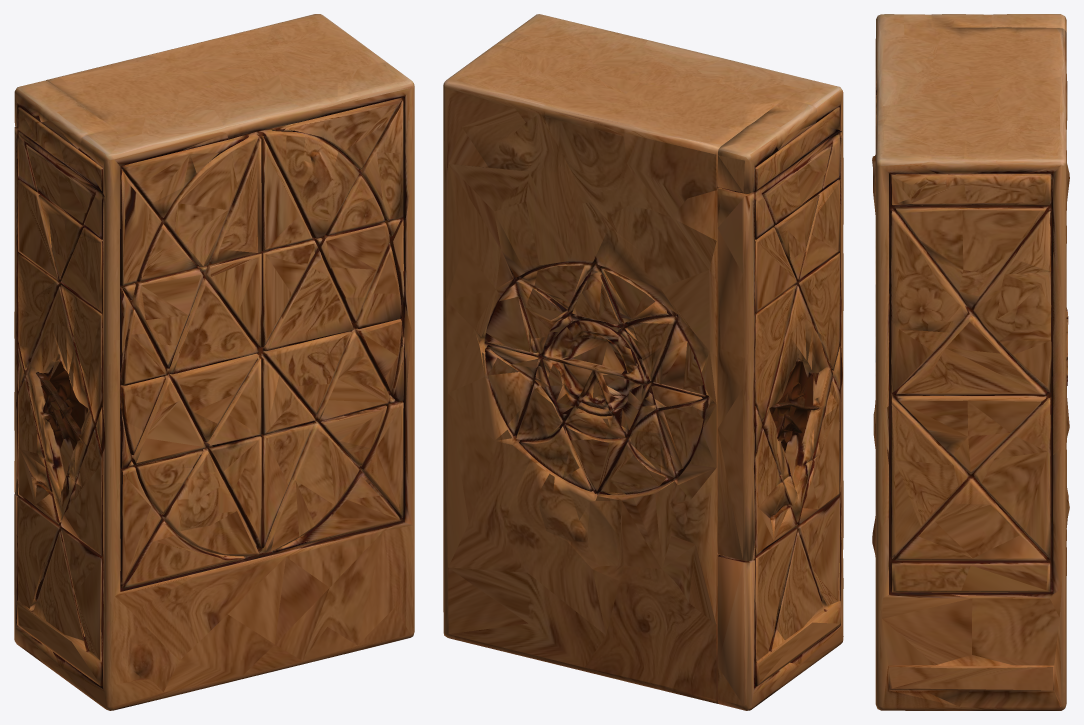
The model's file is wood.glb.
3 renders of one model, left to right at view 1: azimuth 30°, elevation 25°; view 2: azimuth 150°, elevation 25°; view 3: azimuth 270°, elevation 25°, orthographic.
Visible parts, largest first — view 1: tripo_node_7702ca2a-1380-4270-b519-06901e4be8dc; view 2: tripo_node_7702ca2a-1380-4270-b519-06901e4be8dc; view 3: tripo_node_7702ca2a-1380-4270-b519-06901e4be8dc.
Boxes of the visible parts, box(x1,y1,x2,y2) form: tripo_node_7702ca2a-1380-4270-b519-06901e4be8dc: box(14, 14, 414, 710); tripo_node_7702ca2a-1380-4270-b519-06901e4be8dc: box(443, 14, 843, 710); tripo_node_7702ca2a-1380-4270-b519-06901e4be8dc: box(872, 14, 1069, 710).
Size of the model in its own units: 0.5728 by 0.9796 by 0.3178.
Materials: 1 (1 with a texture image).
